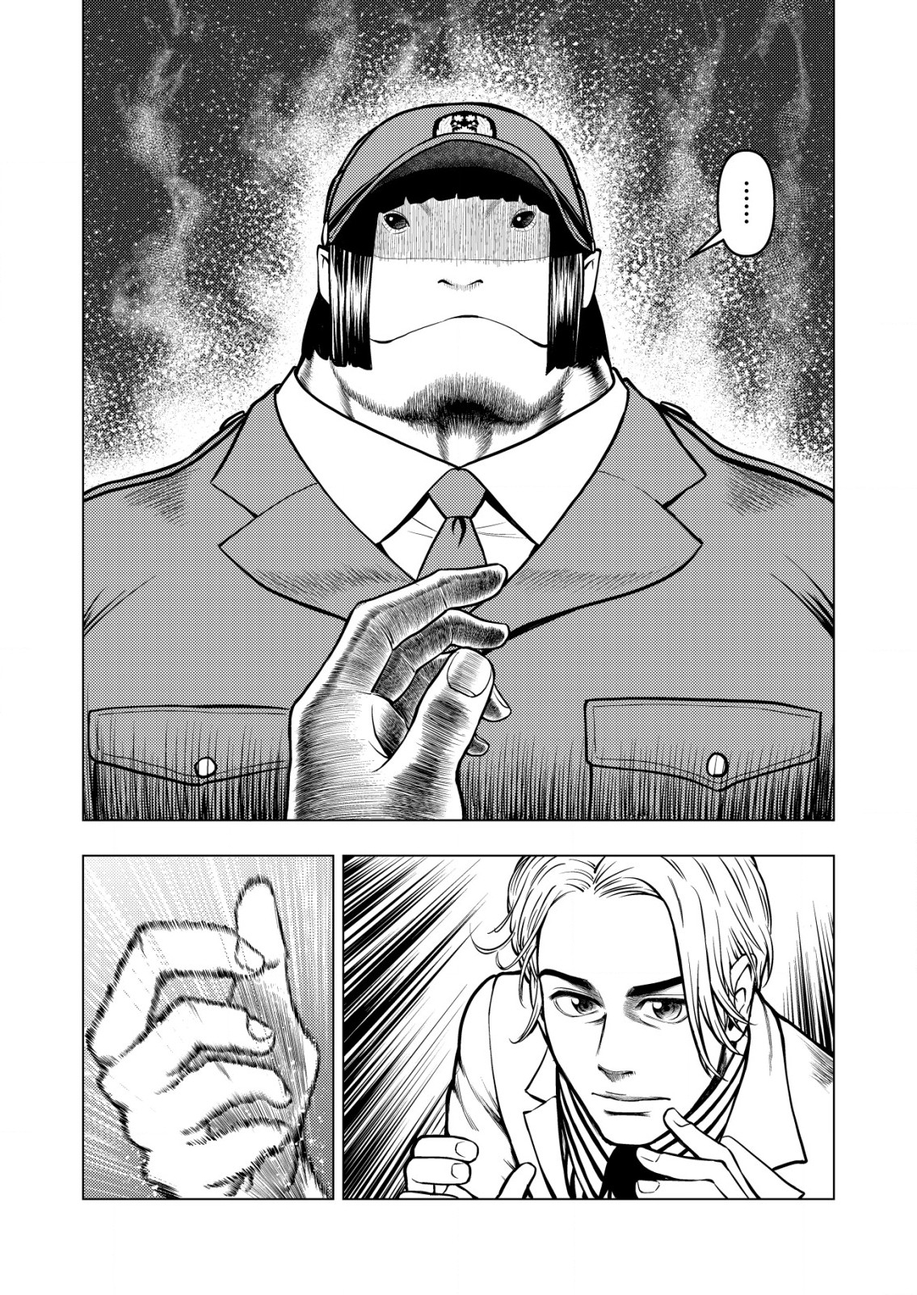bubbles: (684, 149, 784, 273)
